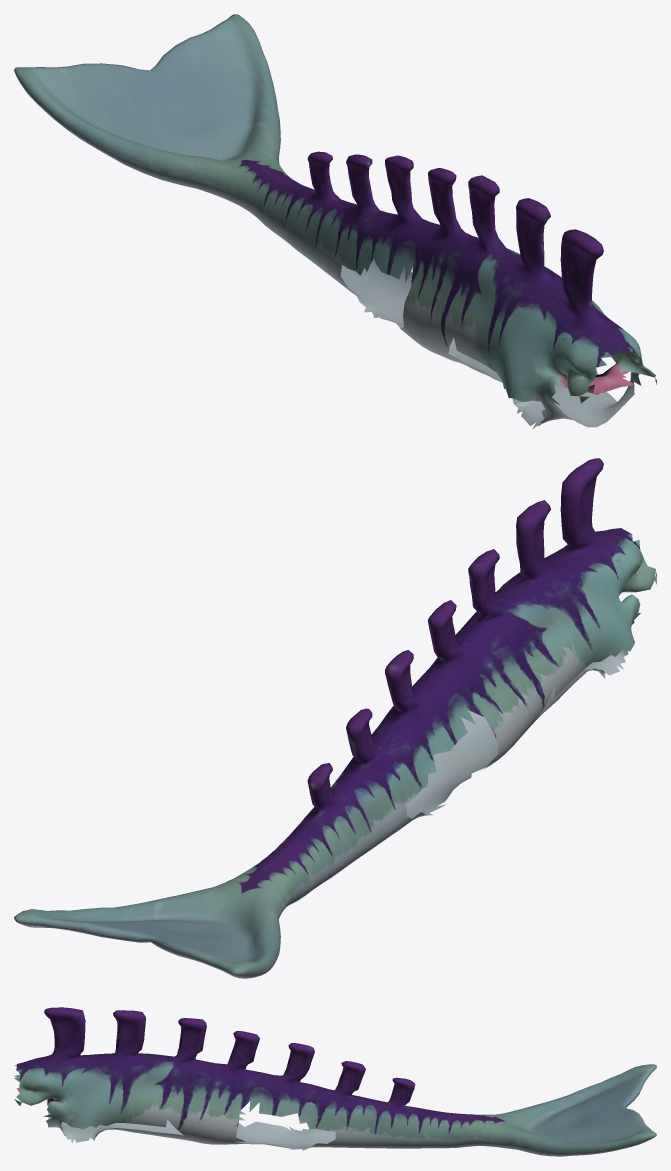
Rendered from Stalker_Cuerpo.obj.
3 renders of one model, top to bottom at view 1: azimuth 30°, elevation 25°; view 2: azimuth 150°, elevation 25°; view 3: azimuth 270°, elevation 25°, orthographic. The views are drawn at different scales.
Bounding box in the file's own units: 1.02 × 0.9108 × 3.83.
